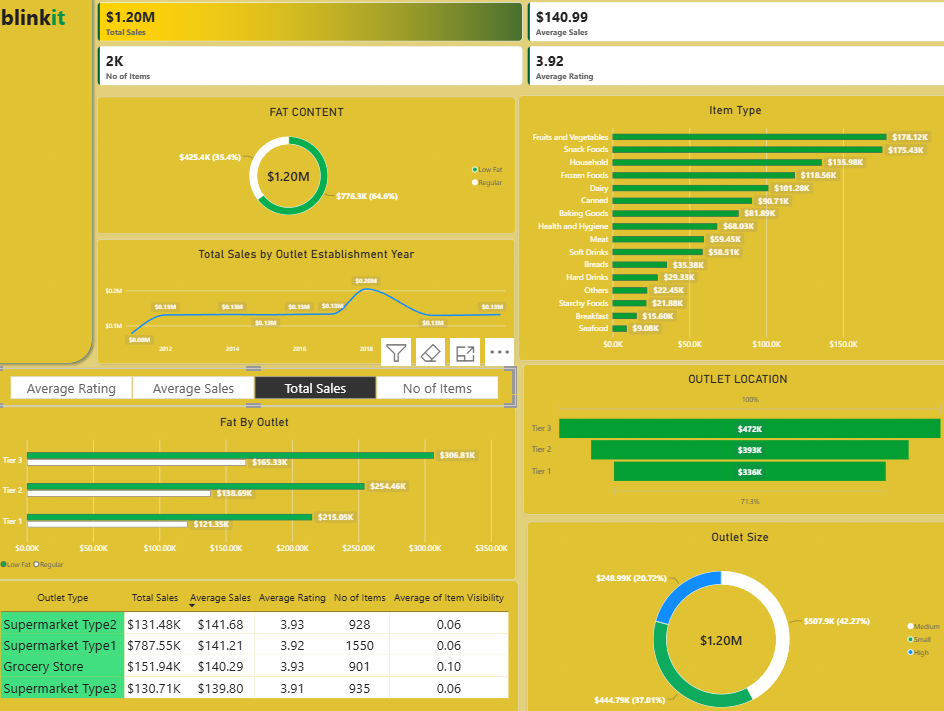

The page's visual inventory and layout, read from the dashboard file:
{"tool":"powerbi","page":{"name":"Page 1","canvas":[1920,1500],"ordinal":0},"visuals":[{"type":"shape","box":[0,0,210,750],"z":0},{"type":"textbox","box":[16.3,16.3,150.2,398.1],"z":1000},{"type":"cardVisual","fields":{"Data":["BlinkIT Grocery Data.Total Sales","BlinkIT Grocery Data.Average Sales","BlinkIT Grocery Data.No of Items","BlinkIT Grocery Data.Average Rating","BlinkIT Grocery Data.Average Sales"]},"box":[209.9,16.3,1713.7,168.3],"z":2000},{"type":"donutChart","title":"FAT CONTENT","fields":{"Category":["BlinkIT Grocery Data.Item Fat Content"],"Y":["BlinkIT Grocery Data.Average Sales"]},"box":[209.6,208.1,837,274.6],"z":3000},{"type":"clusteredBarChart","title":"Item Type","fields":{"Category":["BlinkIT Grocery Data.Item Type"],"Y":["BlinkIT Grocery Data.Average Sales"]},"box":[1052.5,205,867.5,530],"z":4000},{"type":"clusteredBarChart","title":"Fat By Outlet","fields":{"Category":["BlinkIT Grocery Data.Outlet Location Type"],"Series":["BlinkIT Grocery Data.Item Fat Content"],"Y":["BlinkIT Grocery Data.Average Sales"]},"box":[0,828.3,1048.3,346.7],"z":5000},{"type":"lineChart","fields":{"Category":["BlinkIT Grocery Data.Outlet Establishment Year"],"Y":["BlinkIT Grocery Data.Average Sales"]},"box":[209.9,492.2,836.1,249.7],"z":6000},{"type":"donutChart","title":"Outlet Size","fields":{"Category":["BlinkIT Grocery Data.Outlet Size"],"Y":["BlinkIT Grocery Data.Average Sales"]},"box":[1070,1056.7,851.7,428.3],"z":7000},{"type":"funnel","title":"OUTLET LOCATION","fields":{"Category":["BlinkIT Grocery Data.Outlet Location Type"],"Y":["BlinkIT Grocery Data.Average Sales"]},"box":[1063.3,743.3,856.7,300.7],"z":8000},{"type":"tableEx","fields":{"Values":["BlinkIT Grocery Data.Outlet Type","BlinkIT Grocery Data.Average Sales","BlinkIT Grocery Data.Average Sales","BlinkIT Grocery Data.Average Rating","BlinkIT Grocery Data.No of Items","Avg(BlinkIT Grocery Data.Item Visibility)"]},"box":[0,1175,1052.5,325],"z":9000},{"type":"slicer","fields":{"Values":["Parameter 2.Parameter"]},"box":[0,750,1047.5,77.5],"z":9005}]}

Visuals, with their boxes on the page's 1920x1500 design canvas (x1, y1, x2, y2). These are canvas units, not pixel positions in the 944x711 screenshot, which may show the page scaled, cropped or inside an application window:
shape: (x1=0, y1=0, x2=210, y2=750)
textbox: (x1=16, y1=16, x2=166, y2=414)
cardVisual - BlinkIT Grocery Data.Total Sales x BlinkIT Grocery Data.Average Sales: (x1=210, y1=16, x2=1924, y2=185)
"FAT CONTENT" donutChart: (x1=210, y1=208, x2=1047, y2=483)
"Item Type" clusteredBarChart: (x1=1052, y1=205, x2=1920, y2=735)
"Fat By Outlet" clusteredBarChart: (x1=0, y1=828, x2=1048, y2=1175)
lineChart - BlinkIT Grocery Data.Outlet Establishment Year x BlinkIT Grocery Data.Average Sales: (x1=210, y1=492, x2=1046, y2=742)
"Outlet Size" donutChart: (x1=1070, y1=1057, x2=1922, y2=1485)
"OUTLET LOCATION" funnel: (x1=1063, y1=743, x2=1920, y2=1044)
tableEx - BlinkIT Grocery Data.Outlet Type x BlinkIT Grocery Data.Average Sales: (x1=0, y1=1175, x2=1052, y2=1500)
slicer - Parameter 2.Parameter: (x1=0, y1=750, x2=1048, y2=828)
